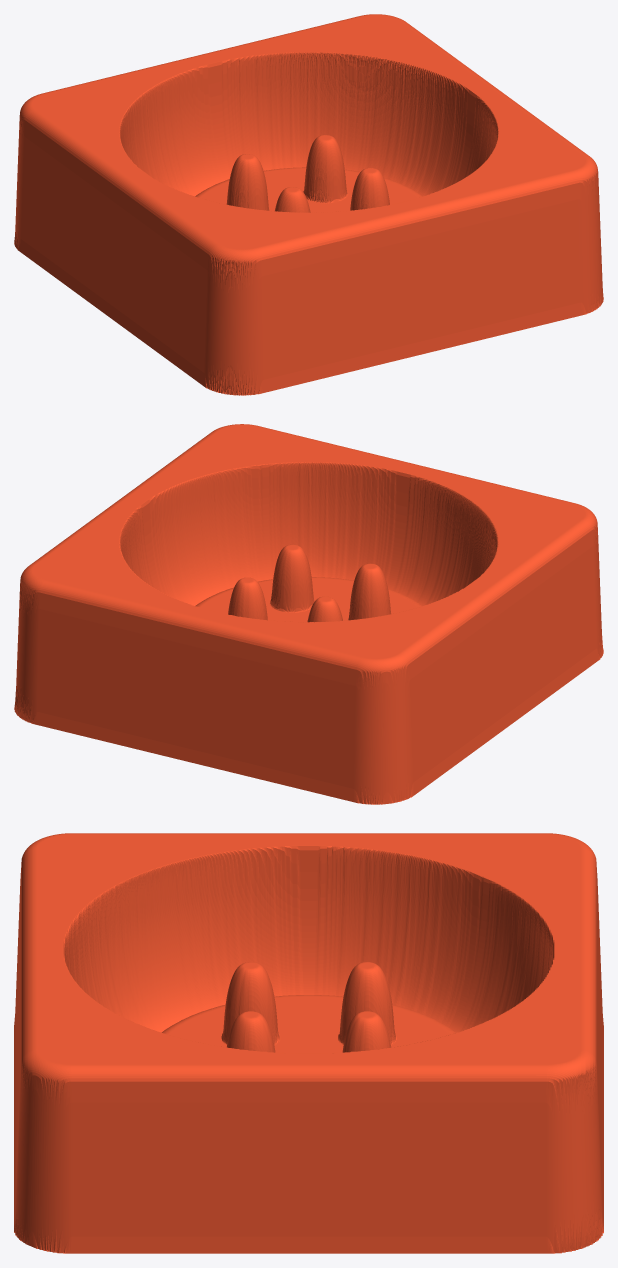
The model's file is mold.glb.
3 renders of one model, top to bottom at view 1: azimuth 30°, elevation 25°; view 2: azimuth 150°, elevation 25°; view 3: azimuth 270°, elevation 25°, orthographic. The views are drawn at different scales.
Visible parts, largest first — view 1: geometry_0; view 2: geometry_0; view 3: geometry_0.
Boxes of the visible parts, x1,y1,x2,y2 form: geometry_0: (14, 14, 603, 395); geometry_0: (14, 424, 603, 804); geometry_0: (14, 833, 603, 1253).
Size of the model in its own units: 0.0924 by 0.031 by 0.0924.
